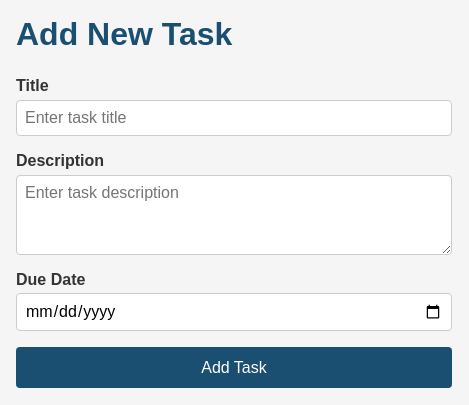
Test: AddTask Form › shows success message when form is filled and submitted
Type "Test Task" into the field with placeholder "Enter task title".
click(234, 118); type("Test Task")  # box 16,100 -> 452,136
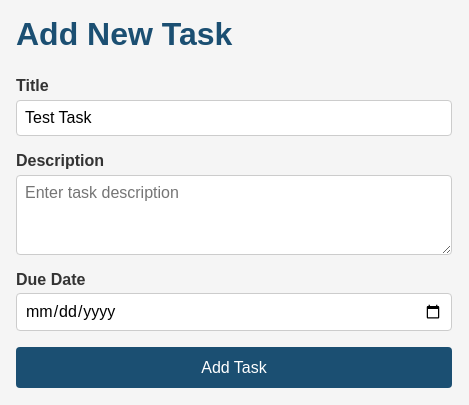
Type "Test Description" into the text box with placeholder "Enter task description".
click(234, 215); type("Test Description")  # box 16,175 -> 452,255
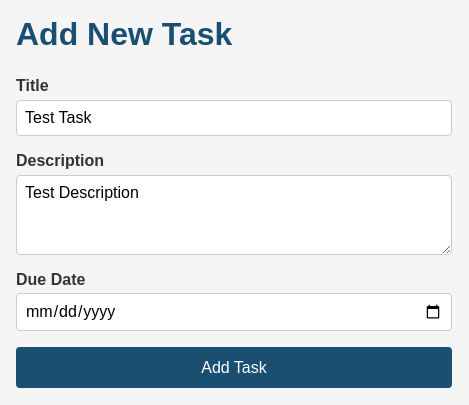
Type "2026-12-01" into the date field.
click(234, 312); type("2026-12-01")  # box 16,293 -> 452,331
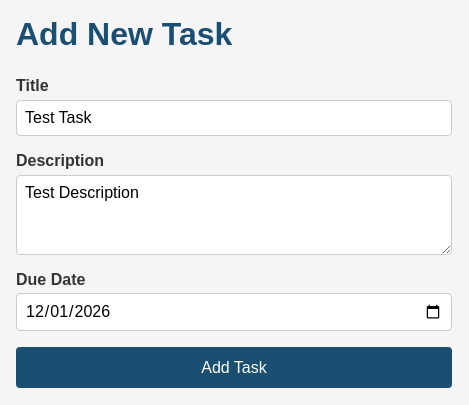
Click the button "Add Task".
click(234, 368)  # box 16,347 -> 452,388
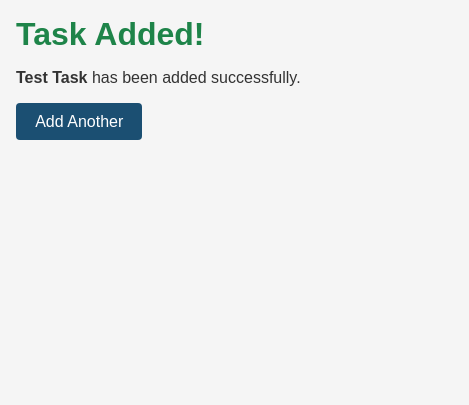
Check: the heading "Task Added!" is shown, box 16,16 -> 204,52
